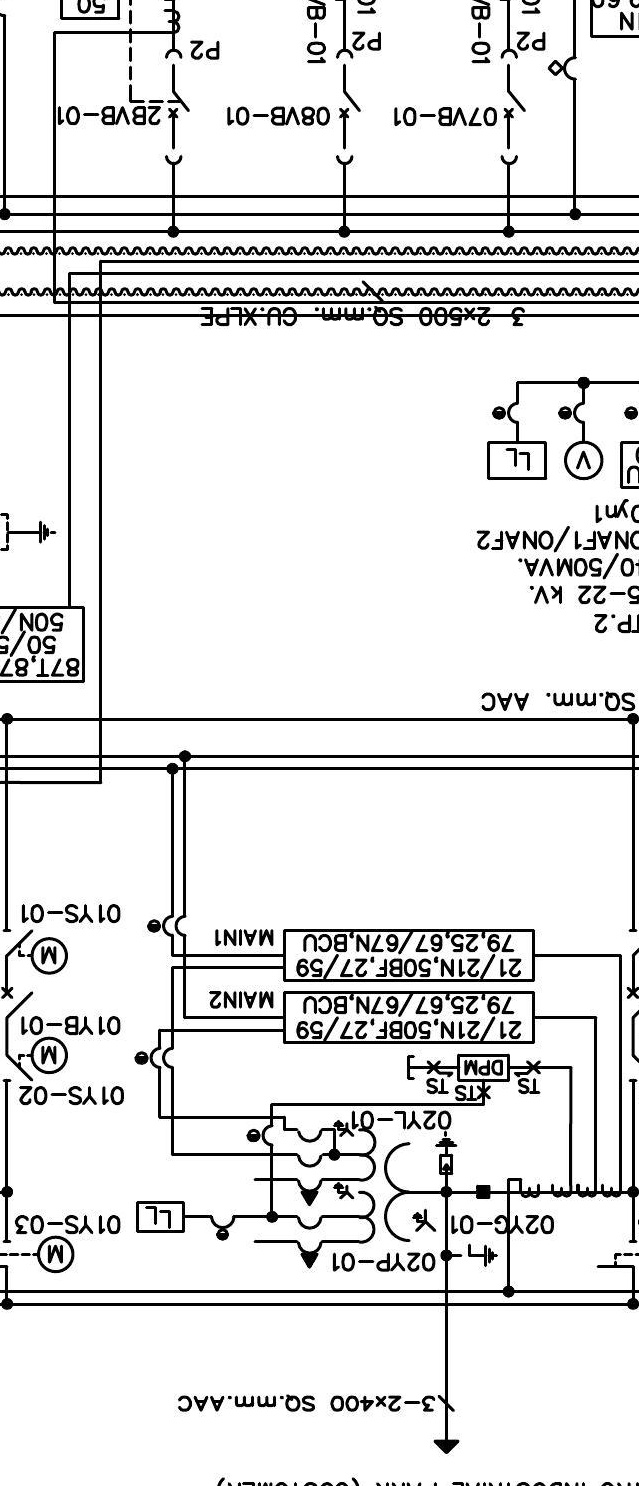115_1way_ds_w_motor: (2, 929, 70, 976), (2, 1036, 69, 1083)
115_breaker: (0, 986, 34, 1018)
115_gs: (458, 1243, 499, 1268)
115_la: (434, 1130, 459, 1176)
115_vt_3p: (296, 1120, 437, 1270)
22_breaker: (164, 48, 191, 166), (499, 49, 526, 166), (335, 48, 361, 166)
DPM: (458, 1054, 511, 1082)
LL: (487, 441, 547, 480), (136, 1201, 187, 1234)
v_m: (563, 441, 604, 481)
